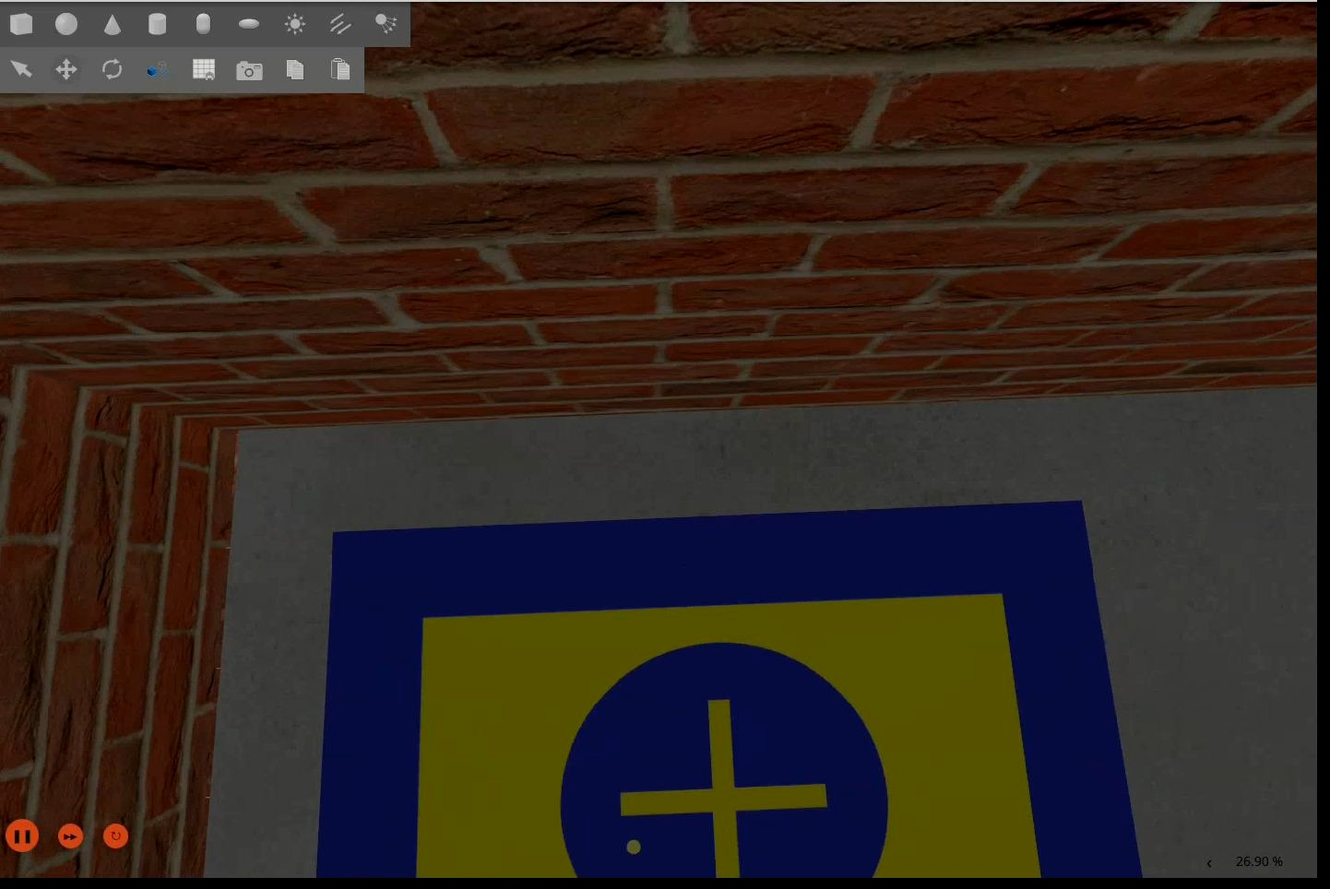large_base: (317, 498, 1144, 880)
